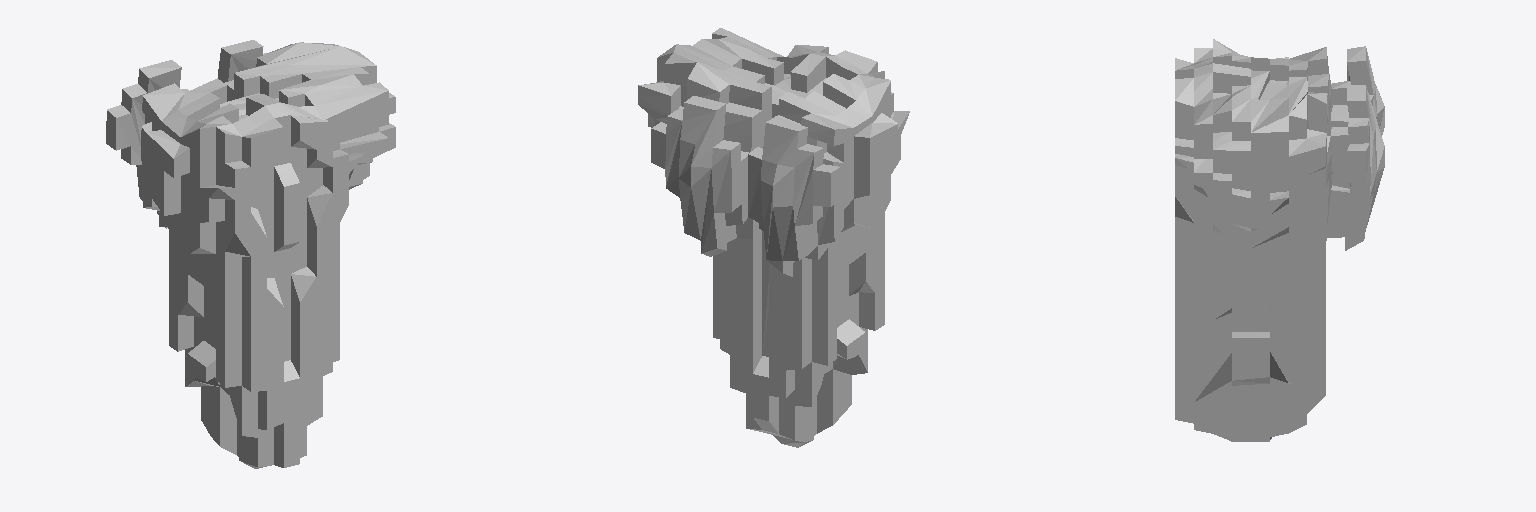
File: Bot_Runner_LOD0-4.obj
3 renders of one model, left to right at view 1: azimuth 30°, elevation 25°; view 2: azimuth 150°, elevation 25°; view 3: azimuth 270°, elevation 25°, orthographic.
Parts seen in each view (by area): view 1: Bot_Runner_LOD0-4; view 2: Bot_Runner_LOD0-4; view 3: Bot_Runner_LOD0-4.
Part boxes in pixels (left/top/right/bottom): Bot_Runner_LOD0-4: left=106, top=40, right=395, bottom=468; Bot_Runner_LOD0-4: left=638, top=28, right=909, bottom=447; Bot_Runner_LOD0-4: left=1175, top=39, right=1384, bottom=441.
Size of the model in its own units: 1.3 by 2.22 by 1.11.